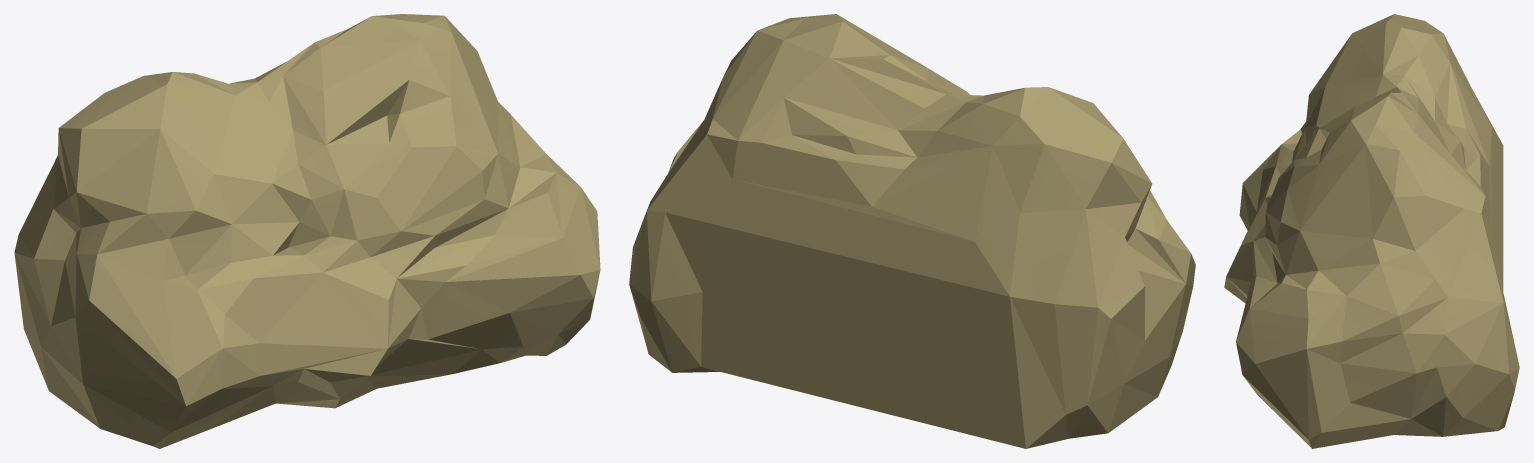
The model's file is SM_rock_69.fbx.
3 renders of one model, left to right at view 1: azimuth 30°, elevation 25°; view 2: azimuth 150°, elevation 25°; view 3: azimuth 270°, elevation 25°, orthographic. The views are drawn at different scales.
Visible parts, largest first — view 1: rock_69; view 2: rock_69; view 3: rock_69.
Part boxes in pixels (x1,y1,x2,y2): rock_69: (14,14,600,448); rock_69: (629,14,1195,448); rock_69: (1224,14,1519,448).
Bounding box in the file's own units: 214 × 138 × 126.
